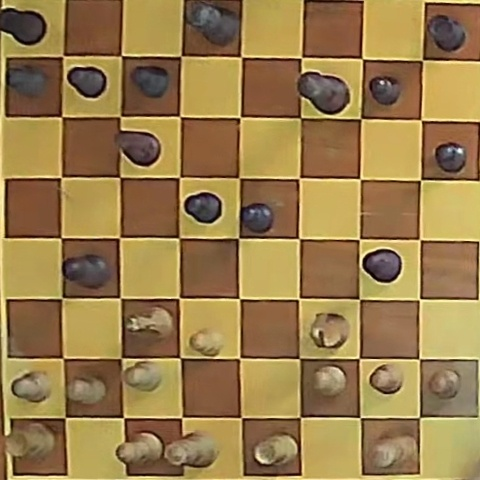black-bishop: (64, 254, 110, 288), (362, 249, 402, 283)
black-king: (298, 73, 349, 114)
black-knight: (115, 131, 160, 166)
black-pawn: (8, 65, 48, 98), (133, 66, 171, 98), (68, 67, 107, 98), (184, 192, 222, 223), (435, 143, 466, 173), (241, 203, 273, 232), (369, 76, 401, 105)
black-queen: (185, 2, 239, 46)
black-rook: (0, 7, 46, 46), (427, 14, 466, 52)
white-bishop: (117, 432, 164, 466)
white-king: (370, 434, 417, 470)
white-knight: (125, 306, 173, 339), (310, 312, 348, 348)
white-pawn: (12, 370, 52, 403), (67, 374, 106, 404), (124, 361, 162, 391), (370, 364, 403, 394), (313, 366, 346, 396), (189, 328, 224, 356), (428, 369, 460, 399)
white-queen: (163, 430, 219, 467)
white-rook: (6, 422, 57, 461), (253, 432, 298, 466)
